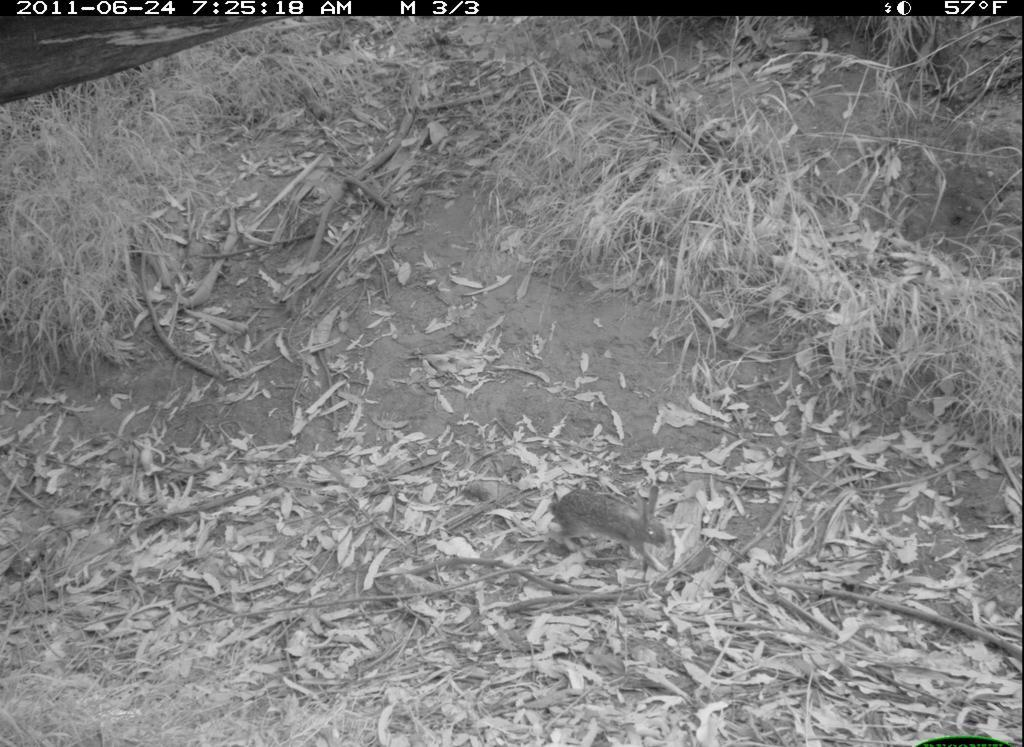rabbit: (532, 463, 706, 575)
